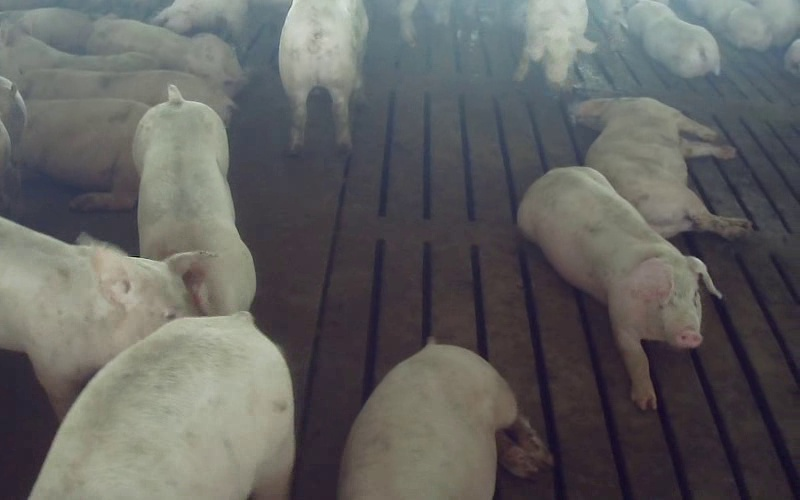pig: (31, 312, 294, 499), (518, 167, 720, 409), (338, 343, 552, 499), (133, 86, 255, 314), (575, 98, 750, 237), (19, 98, 148, 210), (279, 0, 367, 153), (86, 18, 243, 95), (20, 68, 235, 124), (627, 0, 719, 77), (514, 0, 595, 84)
